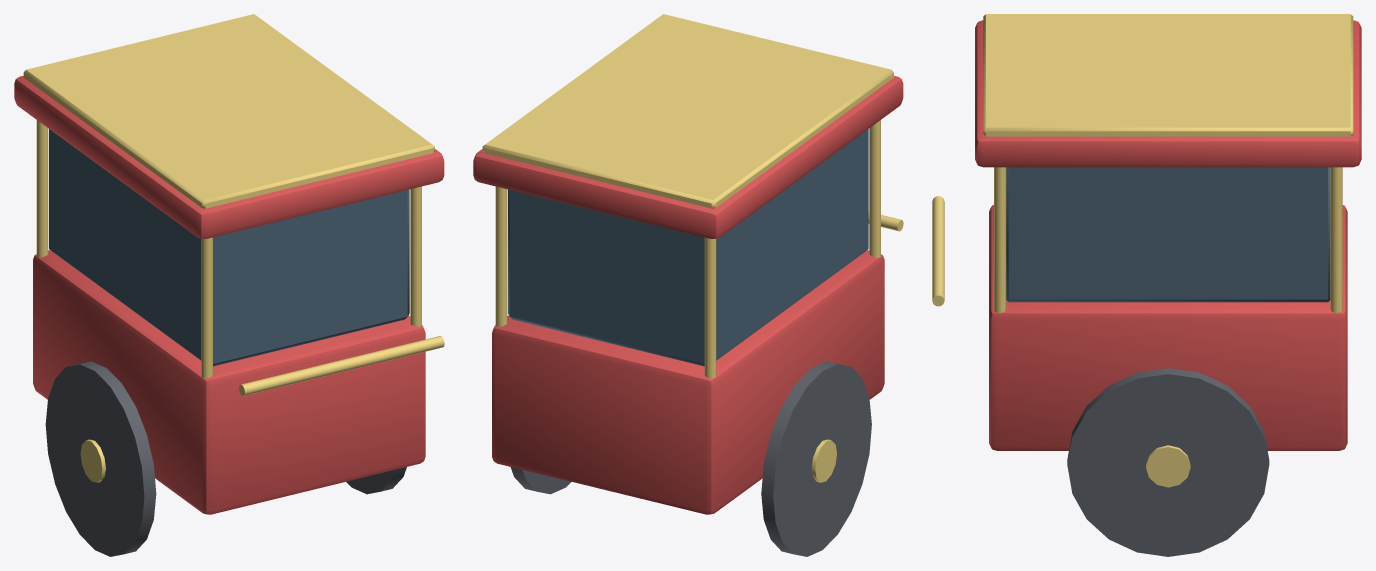
Rendered from Istanbul_SimitCart.fbx.
The picture shows the model from 3 angles, left to right: view 1: azimuth 30°, elevation 25°; view 2: azimuth 150°, elevation 25°; view 3: azimuth 270°, elevation 25°; orthographic projection. The views are drawn at different scales.
Visible parts, largest first — view 1: Istanbul_SimitCart; view 2: Istanbul_SimitCart; view 3: Istanbul_SimitCart.
Boxes of the visible parts, box(x1,y1,x2,y2) form: Istanbul_SimitCart: box(14, 14, 444, 556); Istanbul_SimitCart: box(473, 14, 903, 556); Istanbul_SimitCart: box(932, 14, 1361, 556).
Bounding box in the file's own units: 1.16 × 1.65 × 1.53.
